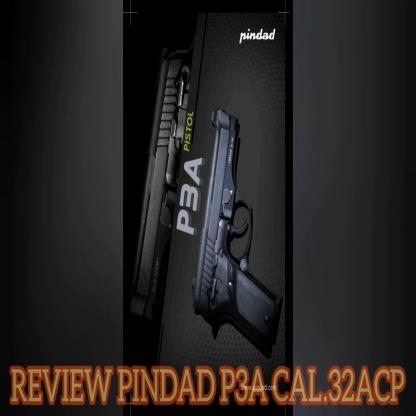handgun: (190, 102, 285, 361)
